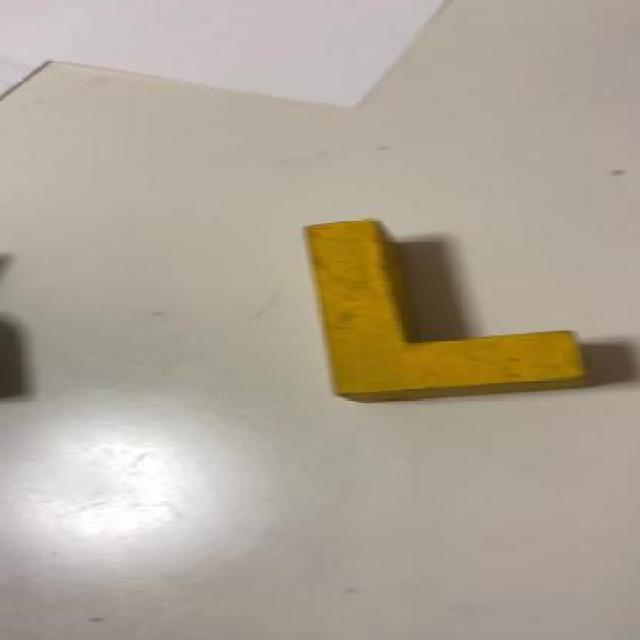L: (302, 218, 595, 390)
